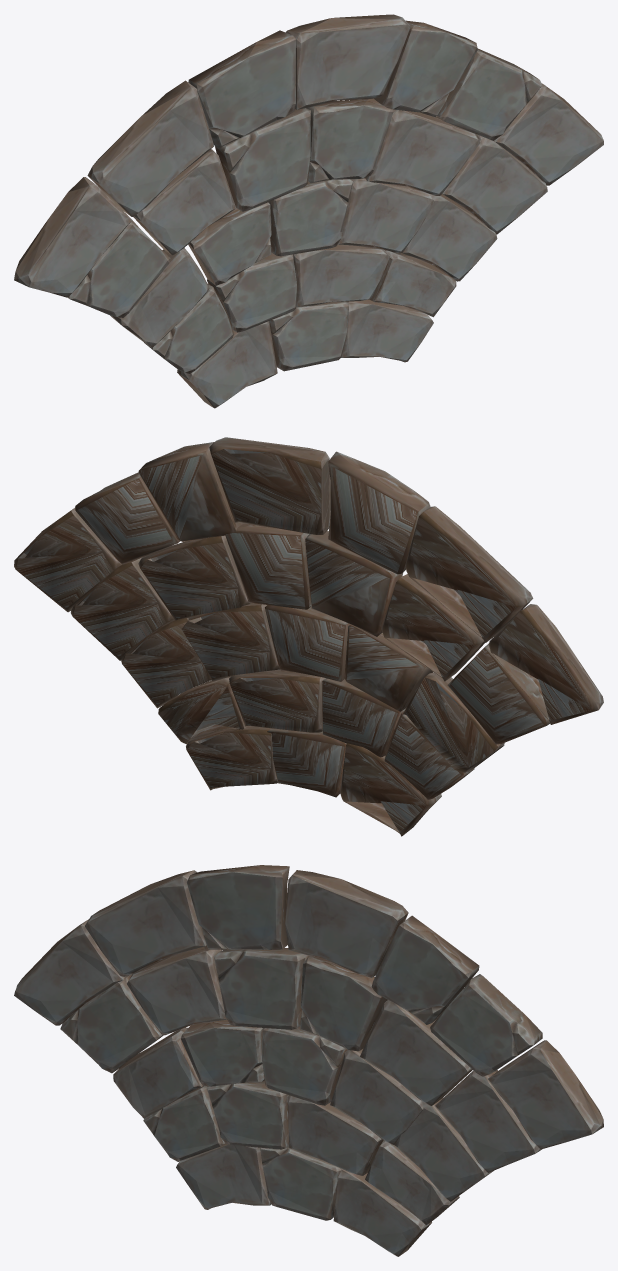
Rendered from Vd_FloorTile_Fan_A.obj.
3 renders of one model, top to bottom at view 1: azimuth 30°, elevation 25°; view 2: azimuth 150°, elevation 25°; view 3: azimuth 330°, elevation 25°, orthographic.
Visible parts, largest first — view 1: Dn_Vd_FloorTile_Fan_A; view 2: Dn_Vd_FloorTile_Fan_A; view 3: Dn_Vd_FloorTile_Fan_A.
Boxes of the visible parts, x1,y1,x2,y2 form: Dn_Vd_FloorTile_Fan_A: [14, 14, 603, 408]; Dn_Vd_FloorTile_Fan_A: [14, 437, 603, 836]; Dn_Vd_FloorTile_Fan_A: [14, 865, 603, 1256].
Size of the model in its own units: 17.89 by 10.47 by 0.8705.
